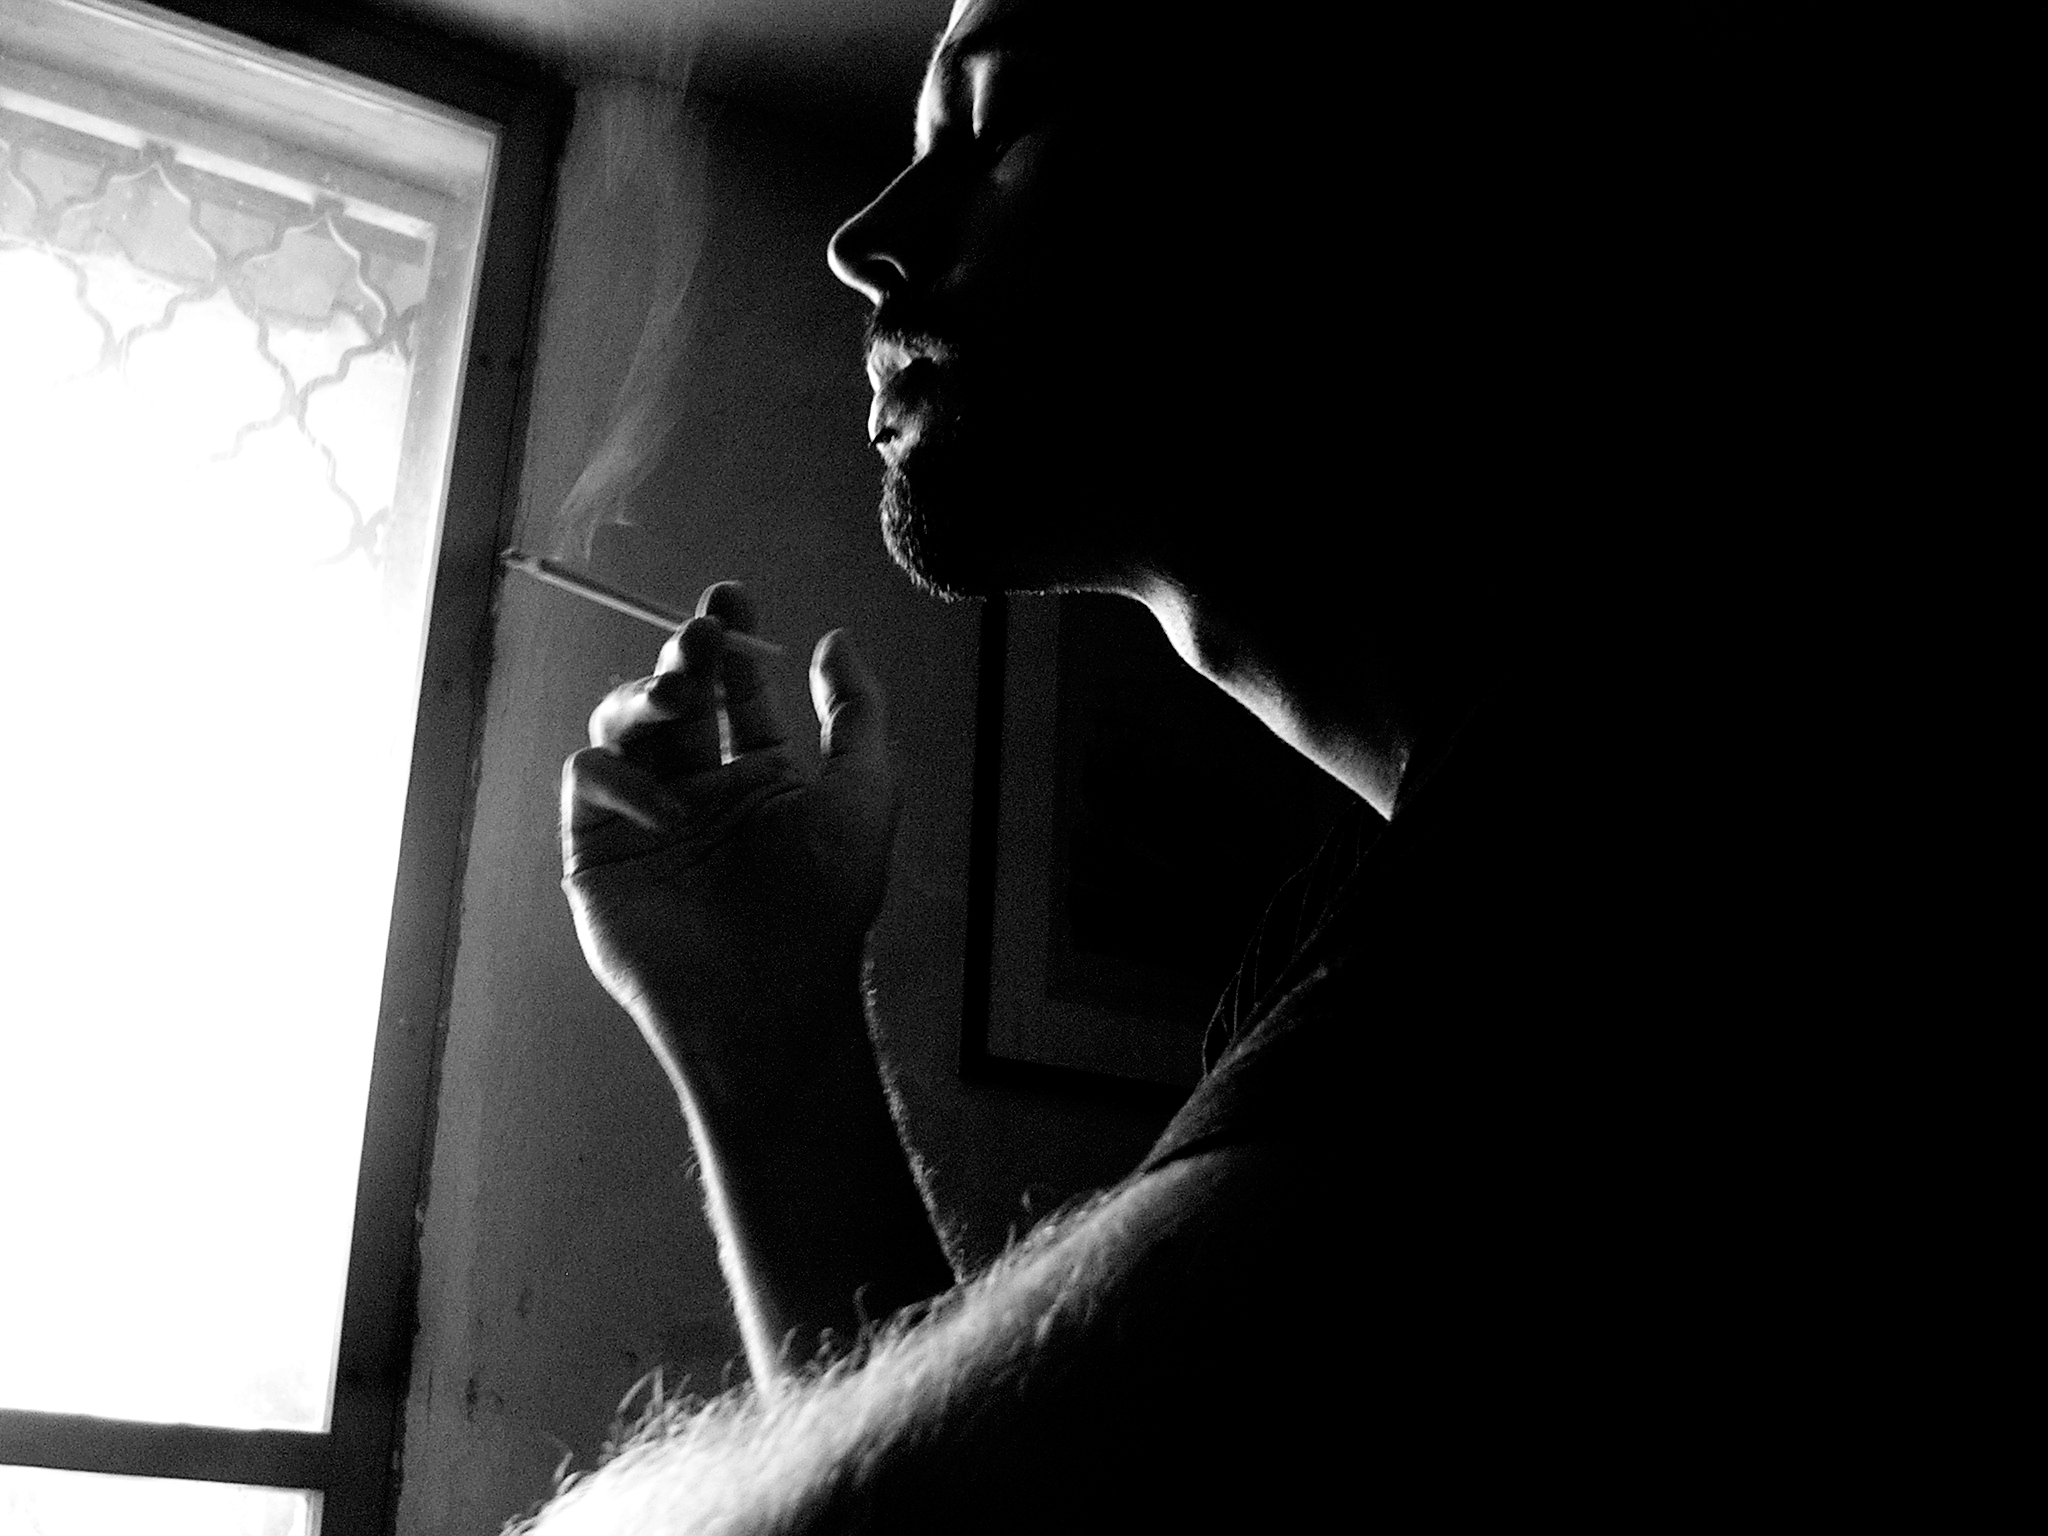cigarette: (498, 537, 785, 663)
